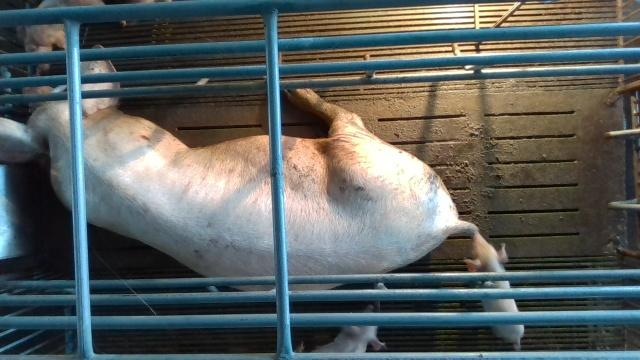piglet: (468, 231, 525, 351), (20, 0, 105, 68), (298, 304, 385, 353)
sow-sit: (0, 44, 477, 290)
